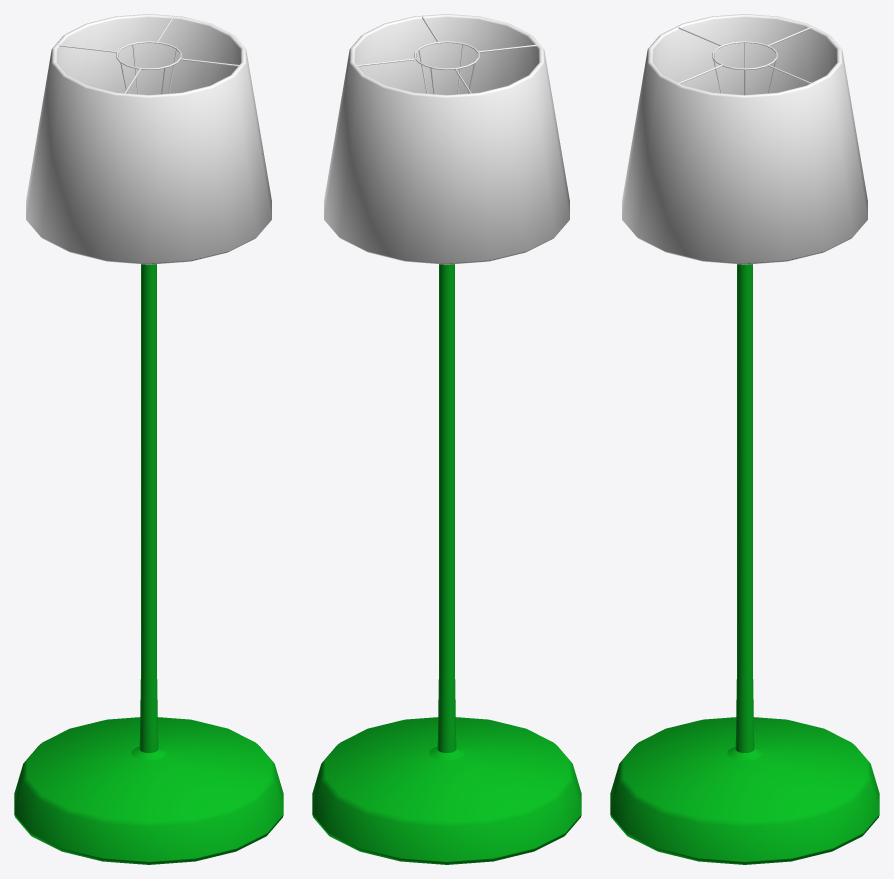
File: LampLaraGam20.FBX
The picture shows the model from 3 angles, left to right: view 1: azimuth 30°, elevation 25°; view 2: azimuth 150°, elevation 25°; view 3: azimuth 270°, elevation 25°; orthographic projection.
Visible parts, largest first — view 1: LampShade, LampPost; view 2: LampShade, LampPost; view 3: LampShade, LampPost.
Boxes of the visible parts, x1,y1,x2,y2 form: LampShade: (26,14,271,264); LampPost: (14,264,283,864); LampShade: (324,14,569,264); LampPost: (312,264,581,864); LampShade: (622,14,867,264); LampPost: (610,264,879,864).
Bounding box in the file's own units: 58.28 × 177 × 57.39.
